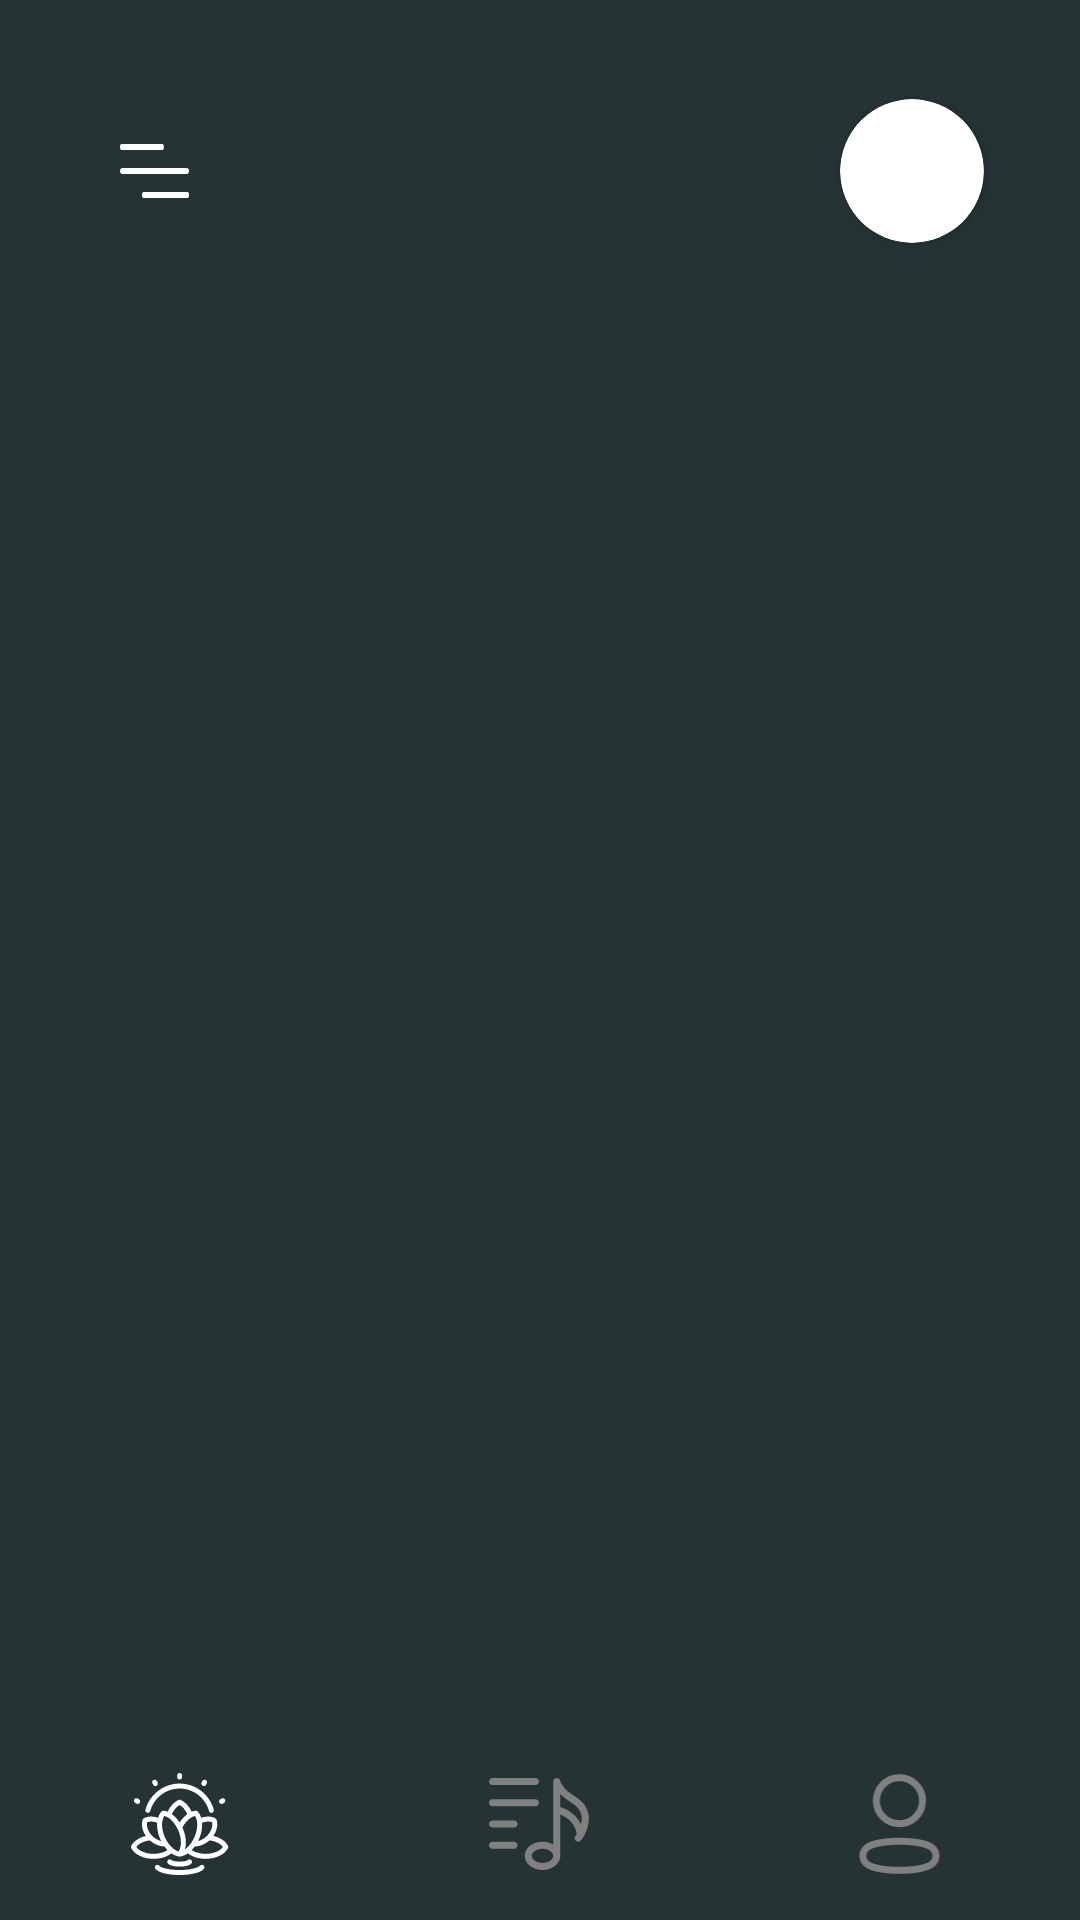

Where to tap for icons on this 1080 × 1920 app screen, as (x,y):
hamburger: (154,171)
